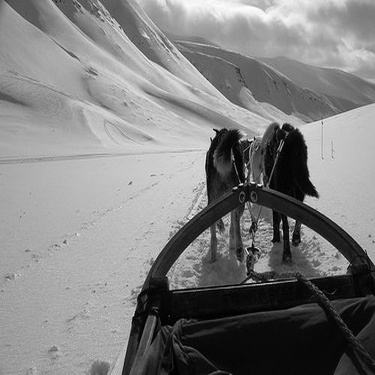dog: (259, 117, 320, 265), (199, 122, 249, 270), (251, 113, 280, 200), (240, 137, 252, 167)
